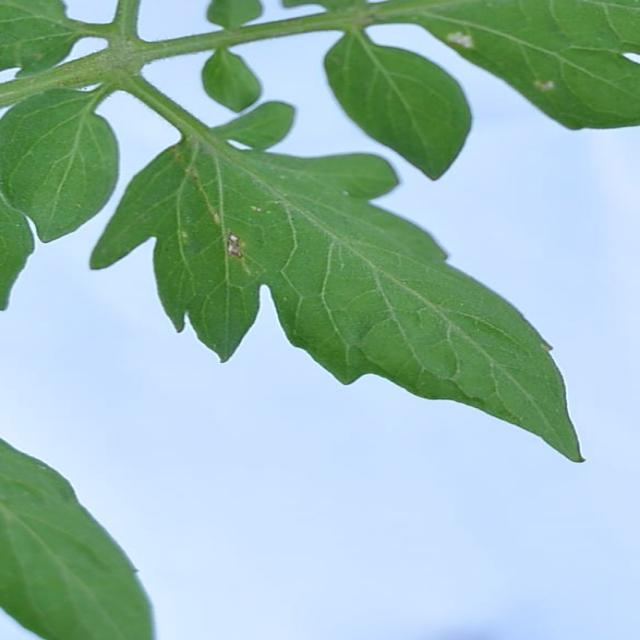healthy: (0, 436, 159, 640), (0, 73, 120, 310), (286, 36, 468, 182)
infected: (154, 144, 312, 294), (432, 18, 572, 118)
